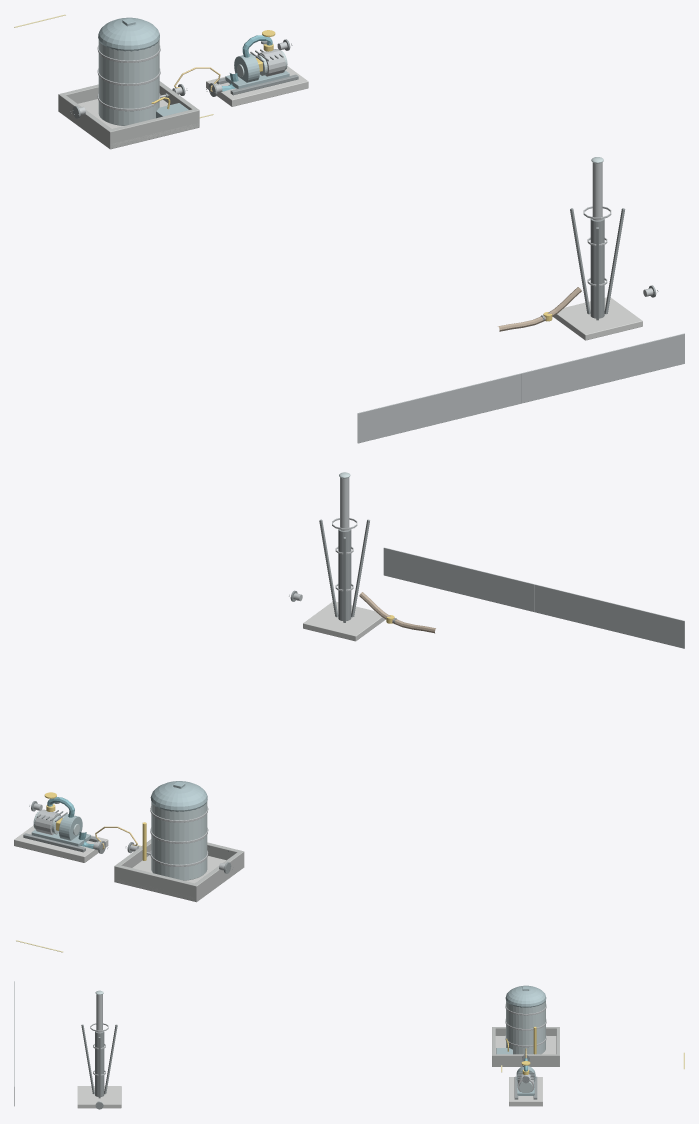
3 renders of one model, top to bottom at view 1: azimuth 30°, elevation 25°; view 2: azimuth 150°, elevation 25°; view 3: azimuth 270°, elevation 25°, orthographic. The views are drawn at different scales.
Visible parts, largest first — view 1: render-batch-5, render-batch-8, render-batch-9, render-batch-6, render-batch-1, render-batch-3, render-batch-7; view 2: render-batch-5, render-batch-8, render-batch-9, render-batch-6, render-batch-1, render-batch-3, render-batch-7; view 3: render-batch-8, render-batch-9, render-batch-1, render-batch-6, render-batch-3, render-batch-7.
Boxes of the visible parts, <box> form: render-batch-5: <box>357,333,684,443</box>; render-batch-8: <box>98,40,603,163</box>; render-batch-9: <box>78,66,642,340</box>; render-batch-6: <box>58,81,199,149</box>; render-batch-1: <box>70,39,658,320</box>; render-batch-3: <box>98,17,289,118</box>; render-batch-7: <box>79,37,653,296</box>; render-batch-5: <box>383,547,684,648</box>; render-batch-8: <box>33,472,350,880</box>; render-batch-9: <box>14,601,385,901</box>; render-batch-6: <box>114,839,244,902</box>; render-batch-1: <box>23,519,396,873</box>; render-batch-3: <box>31,781,207,846</box>; render-batch-7: <box>33,477,357,870</box>; render-batch-8: <box>95,990,545,1092</box>; render-batch-9: <box>77,1036,556,1108</box>; render-batch-1: <box>81,1024,537,1109</box>; render-batch-6: <box>492,1027,559,1066</box>; render-batch-3: <box>496,985,546,1095</box>; render-batch-7: <box>90,994,546,1101</box>.
Size of the model in its own units: 22.77 by 9.74 by 55.08.
